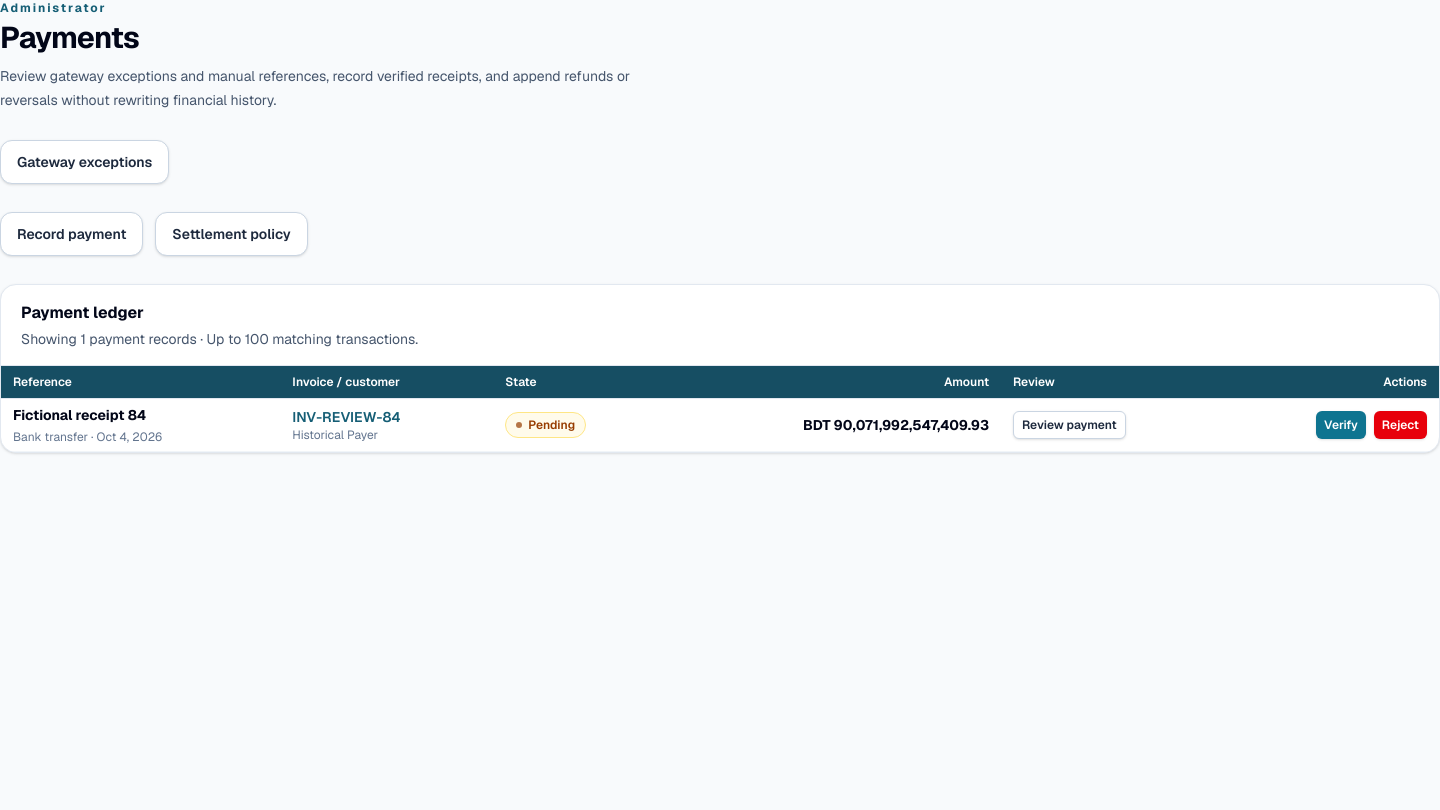
Test case: payment workspace review boundaries and existing mutations › preserves deliberate REJECT body and clears stale review before a failed invoice refresh
Click the button "Review payment".
click(1069, 425)  # box [1013, 411, 1126, 439]
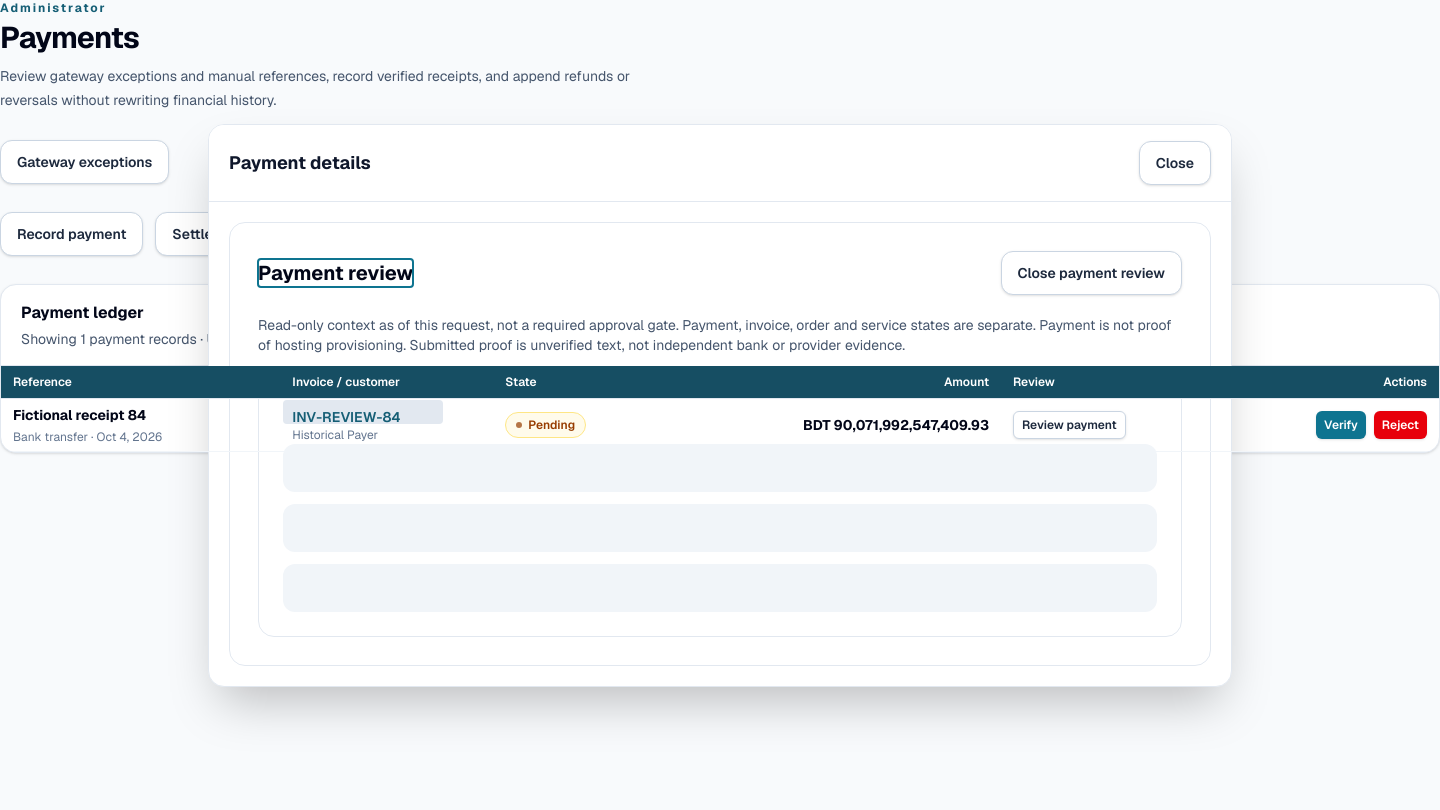
Click the button "Reject".
click(1400, 425)  # box [1374, 411, 1427, 439]
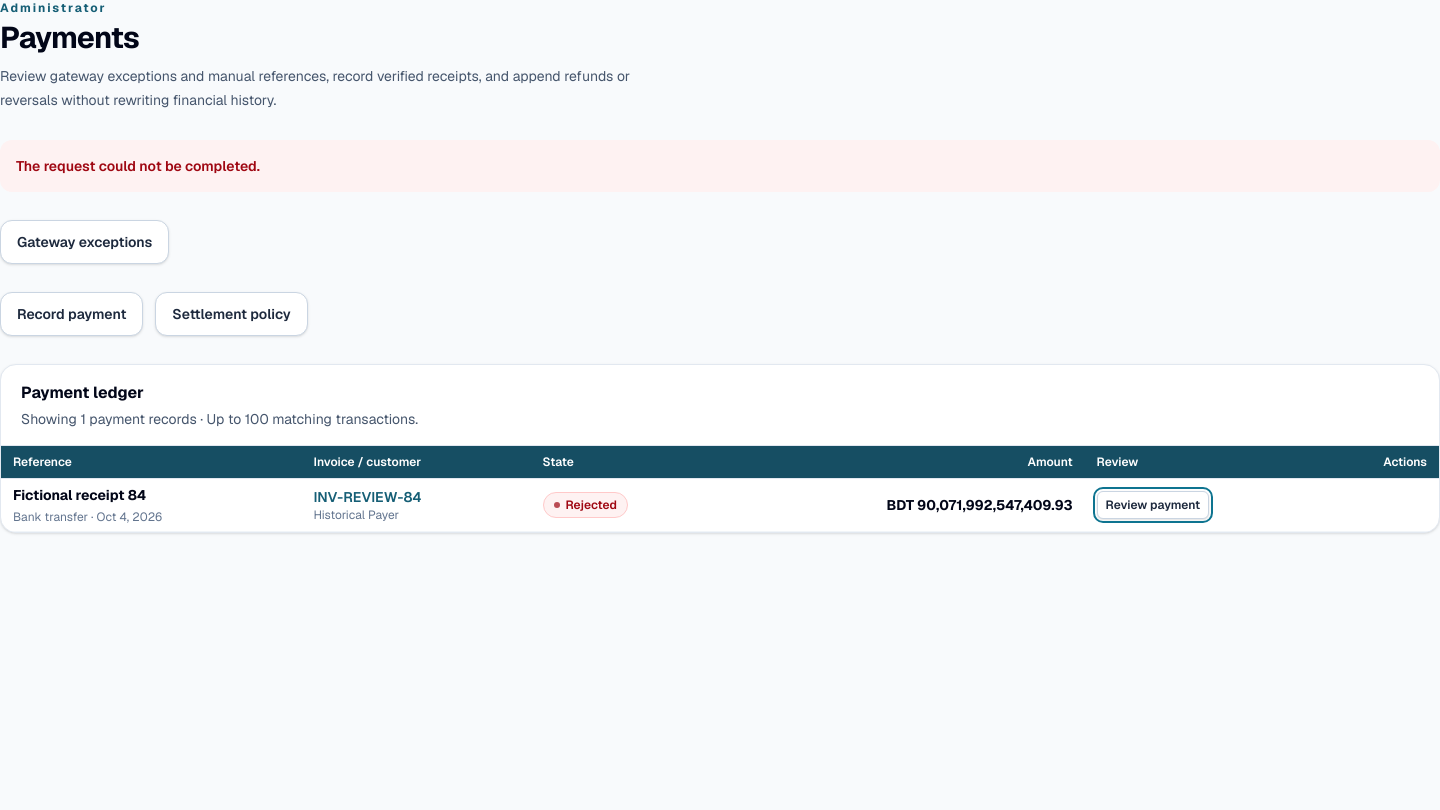
Expected: the heading "Payment review" is gone
